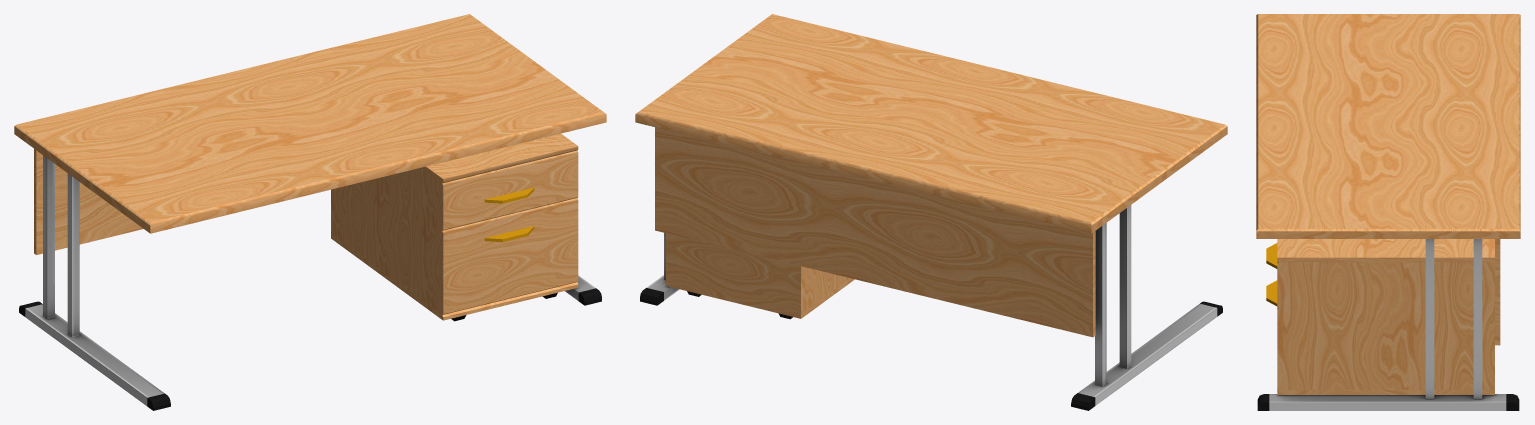
Rendered from desk.glb.
3 renders of one model, left to right at view 1: azimuth 30°, elevation 25°; view 2: azimuth 150°, elevation 25°; view 3: azimuth 270°, elevation 25°, orthographic. The views are drawn at different scales.
Visible parts, largest first — view 1: desk; view 2: desk; view 3: desk.
Part boxes in pixels (x1,y1,x2,y2): desk: (14, 14, 606, 410); desk: (635, 14, 1227, 410); desk: (1256, 14, 1520, 410).
Bounding box in the file's own units: 1.69 × 0.6698 × 0.8743.
4 materials, 2 textured.
